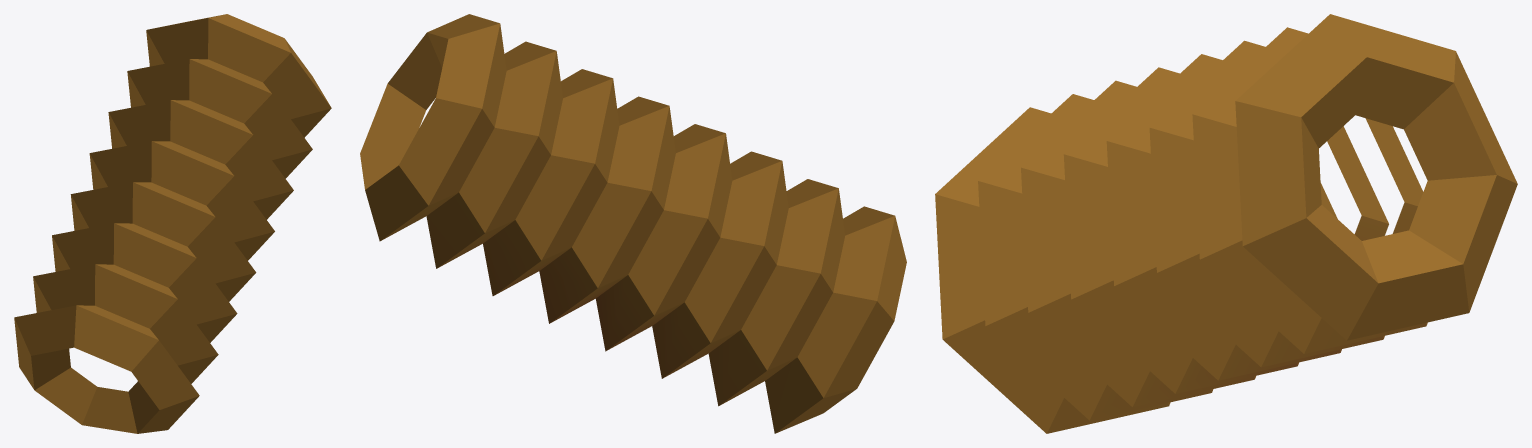
The model's file is copper-wire.glb.
3 views of the same model, side by side, from view 1: azimuth 30°, elevation 25°; view 2: azimuth 150°, elevation 25°; view 3: azimuth 270°, elevation 25° (orthographic). The views are drawn at different scales.
Parts seen in each view (by area): view 1: Cylinder.021; view 2: Cylinder.021; view 3: Cylinder.021.
Part boxes in pixels (box(x1,y1,x2,y2)): Cylinder.021: box(14, 14, 331, 433); Cylinder.021: box(360, 14, 906, 433); Cylinder.021: box(935, 14, 1517, 433).
Bounding box in the file's own units: 5 × 4.47 × 4.47.
